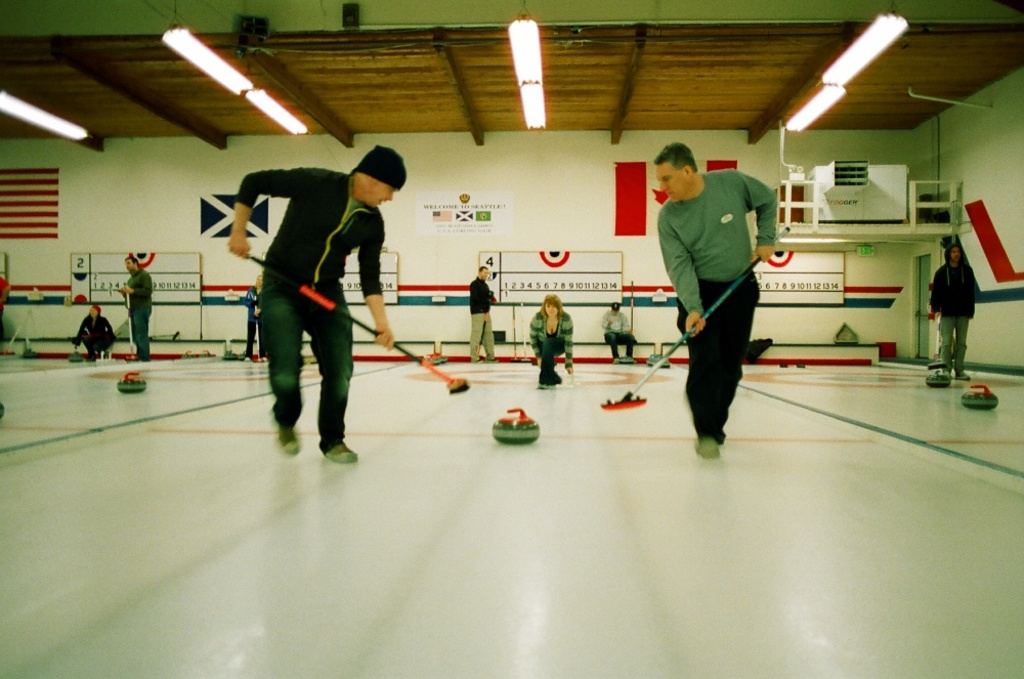Person: (228, 143, 407, 463), (653, 137, 776, 460), (930, 242, 975, 379), (529, 295, 573, 387), (118, 258, 150, 361), (468, 267, 498, 361), (73, 306, 115, 359), (239, 276, 263, 360), (602, 303, 633, 362)
